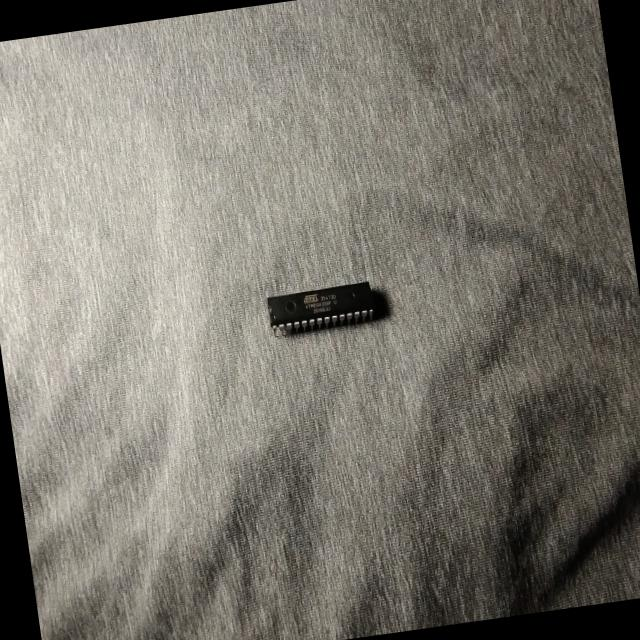atmega: (263, 277, 381, 342)
